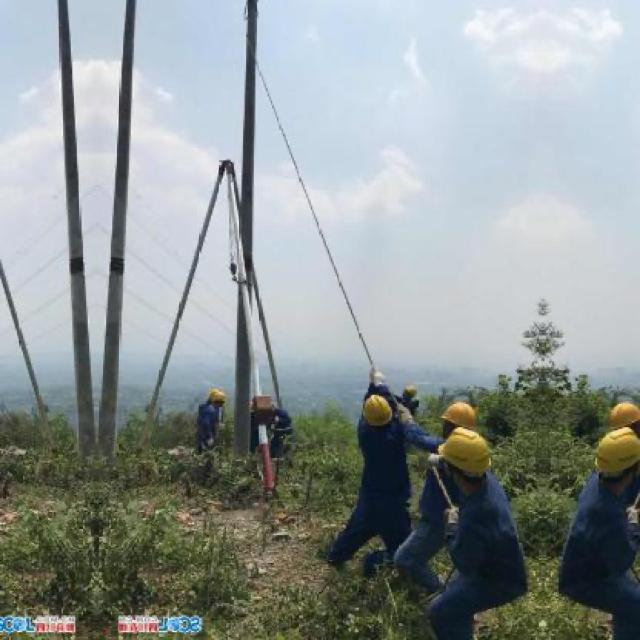con casco: (343, 369, 401, 464), (409, 399, 476, 444), (446, 436, 493, 498), (182, 378, 237, 413)
